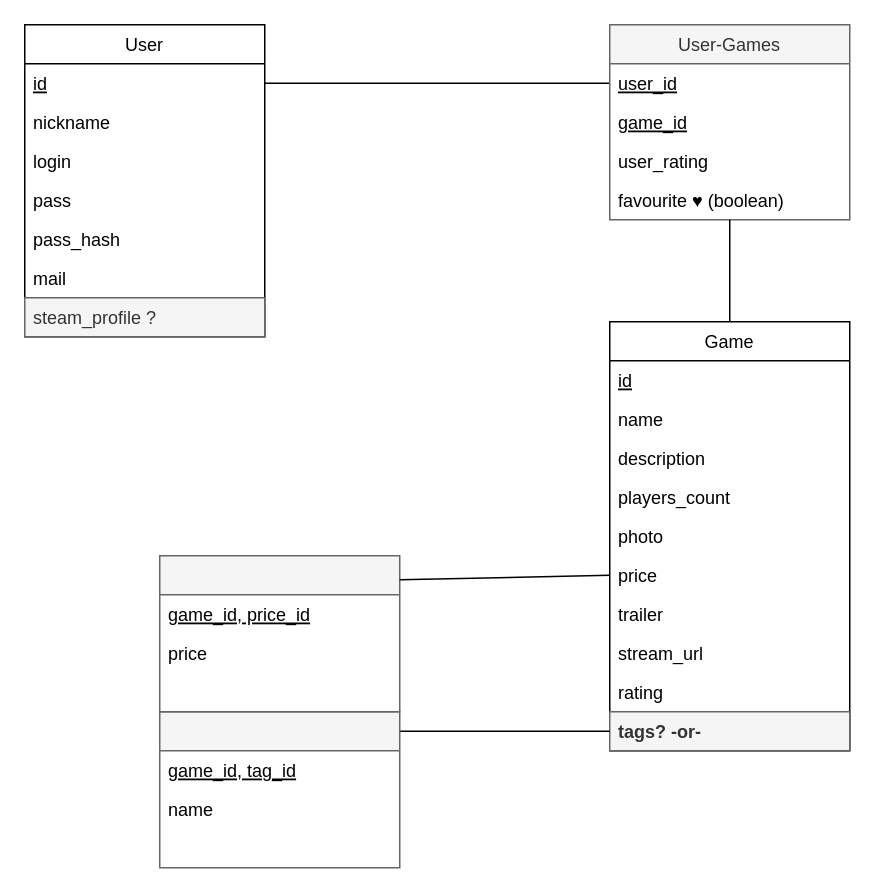
Some shapes in this 875 by 893 pixel diagram are drawn without their labels. The box of each missing label's shape, as (x1, y1, x2, y2) in pixels:
Game-Price: (158, 554, 400, 712)
Game-Tag: (158, 710, 400, 868)
